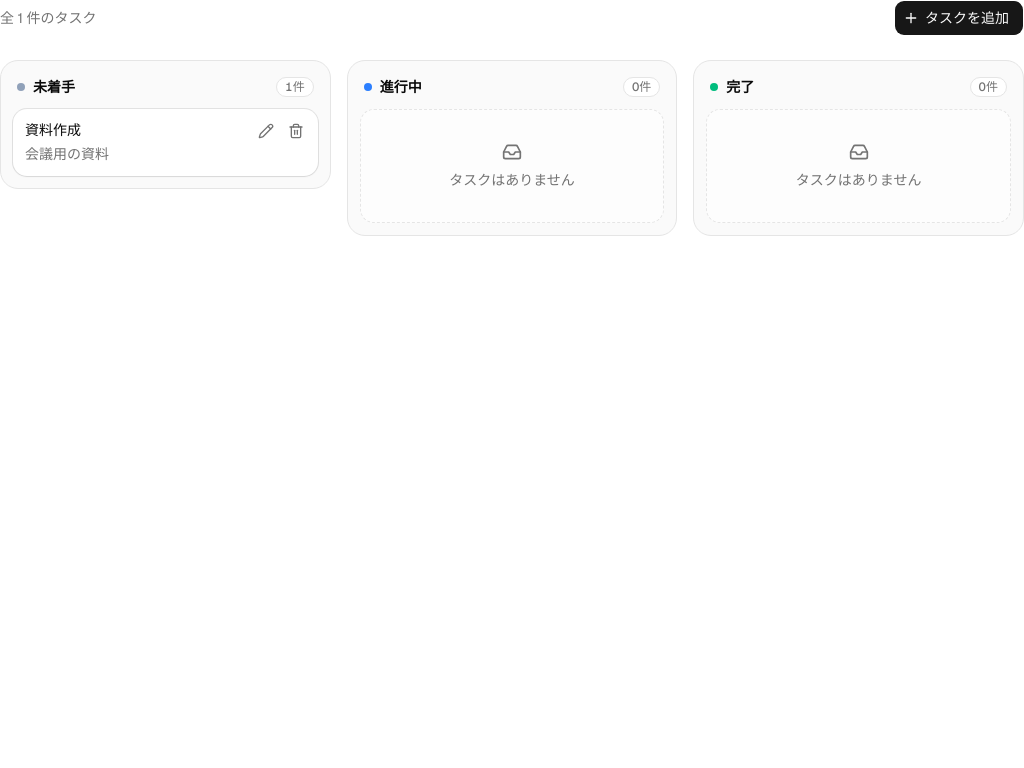
KanbanBoard › 編集 › キャンセルすると、変更を破棄してダイアログを閉じる
Step 1. Click the button named "「資料作成」を編集" → [266, 131], box x1=252 y1=117 x2=280 y2=145
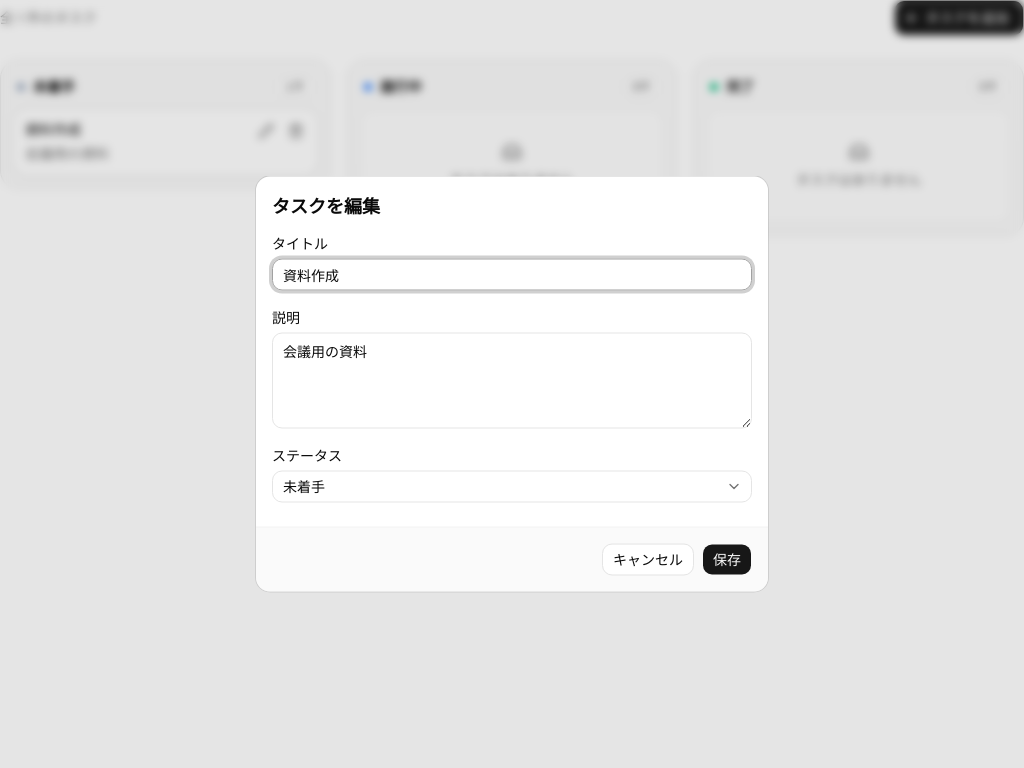
Step 2. Type "追記" into the field labelled "タイトル" → [512, 274], box x1=272 y1=258 x2=752 y2=290
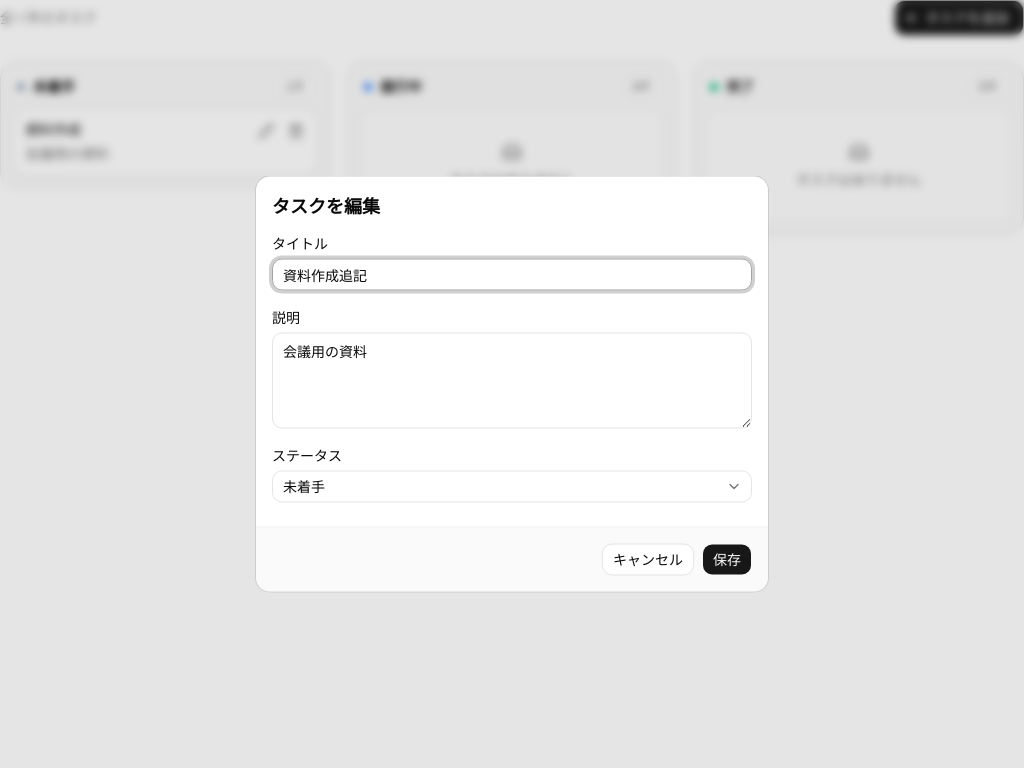
Step 3. Click the button "キャンセル" → [648, 560], box x1=602 y1=544 x2=694 y2=576
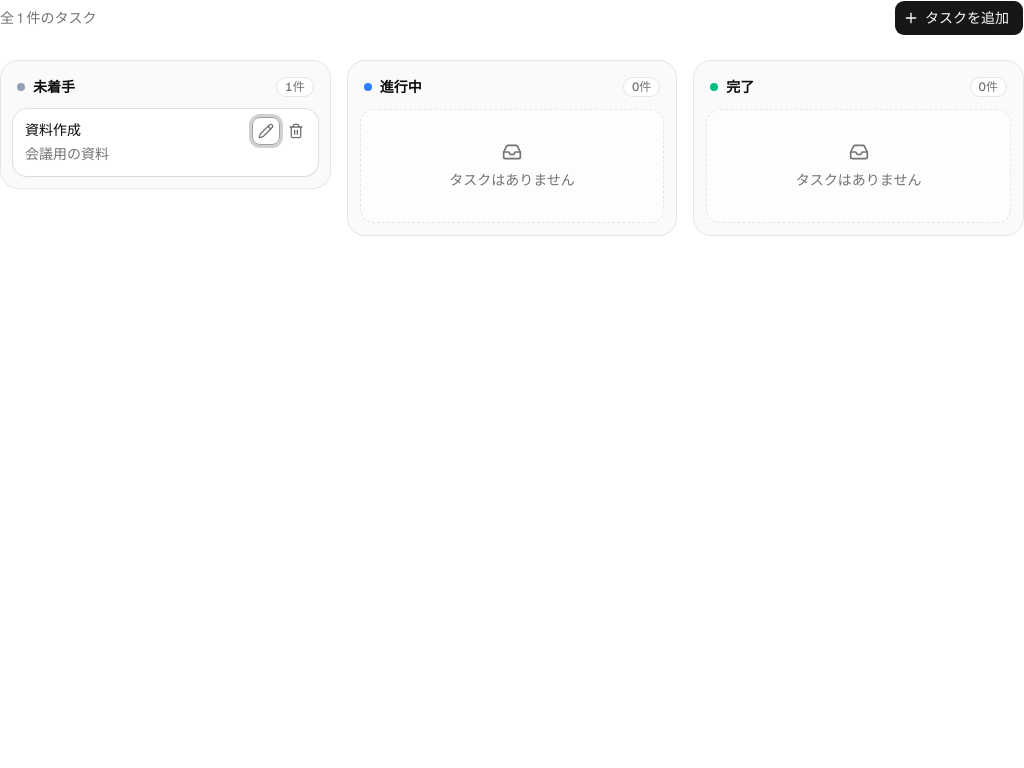
Expected: the heading "資料作成" is shown, x1=25 y1=121 x2=81 y2=139
Expected: the dialog is gone
